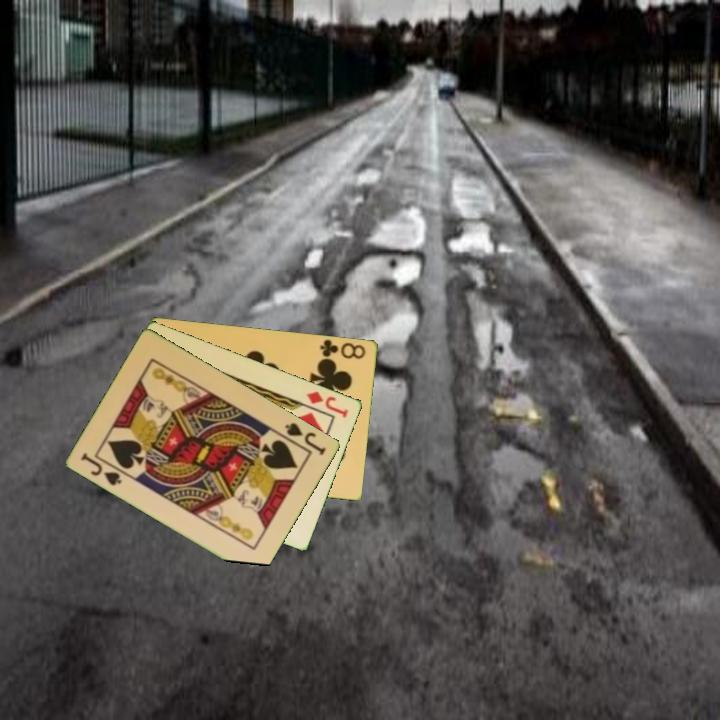8c: (317, 336, 369, 362)
Jd: (303, 387, 351, 420)
Js: (78, 449, 129, 489), (282, 419, 329, 458)
